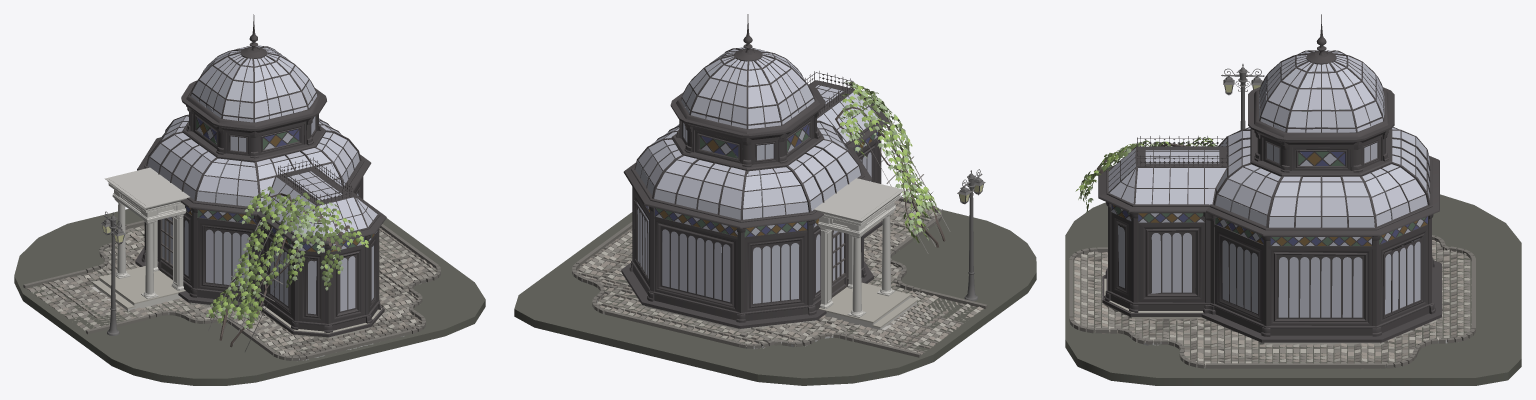
File: greenhouse.glb
3 views of the same model, side by side, from view 1: azimuth 30°, elevation 25°; view 2: azimuth 150°, elevation 25°; view 3: azimuth 270°, elevation 25° (orthographic). The views are drawn at different scales.
Visible parts, largest first — view 1: Greenhouse; view 2: Greenhouse; view 3: Greenhouse.
Boxes of the visible parts, box(x1,y1,x2,y2) form: Greenhouse: box(14, 14, 485, 385); Greenhouse: box(514, 14, 1036, 385); Greenhouse: box(1065, 14, 1521, 385).
Size of the model in its own units: 2.9 by 2.04 by 2.9.
